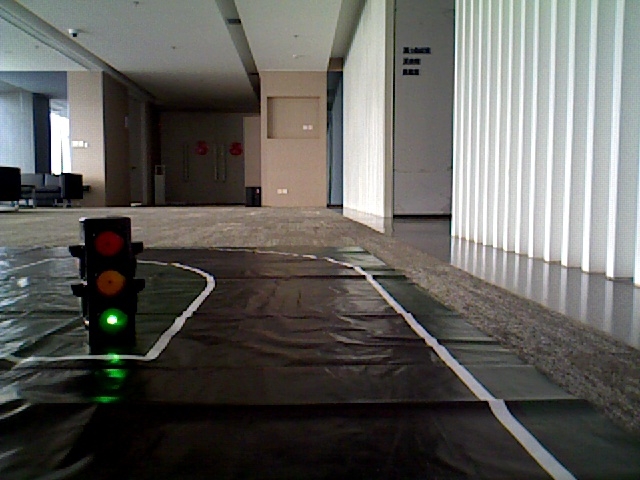green: (87, 224, 133, 340)
